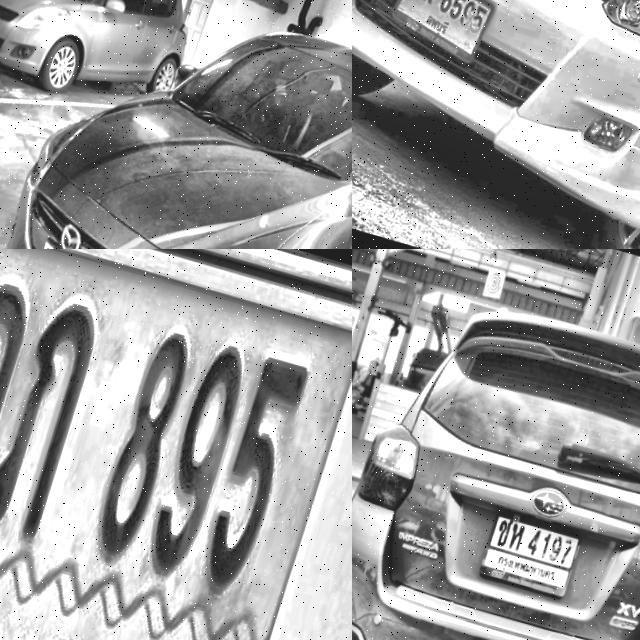license-plate: (0, 249, 352, 640), (482, 506, 588, 597), (384, 0, 514, 68)
